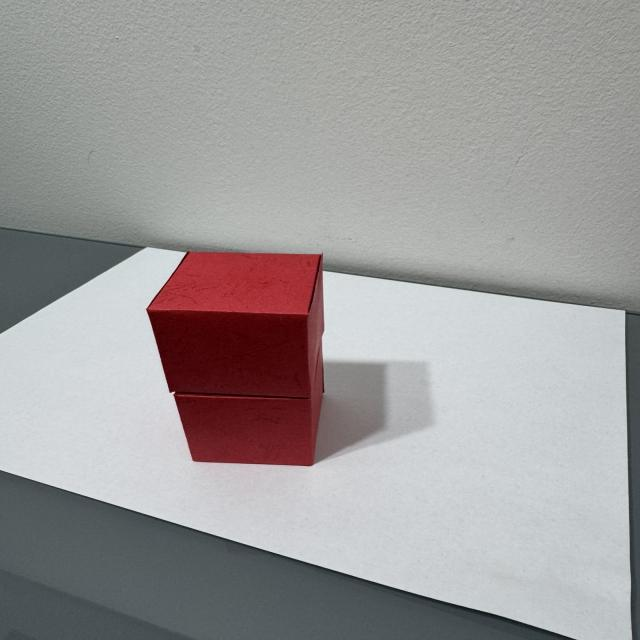red_cube: (123, 241, 356, 487)
